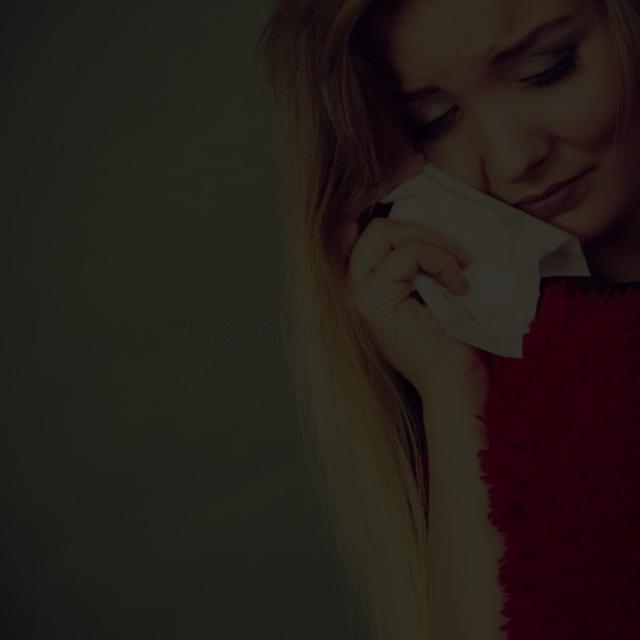Sad: (340, 0, 640, 273)
